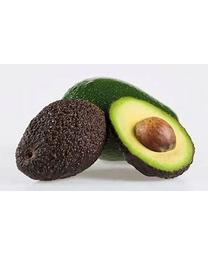avocado: (62, 75, 180, 164), (14, 96, 109, 184), (106, 92, 197, 181)
